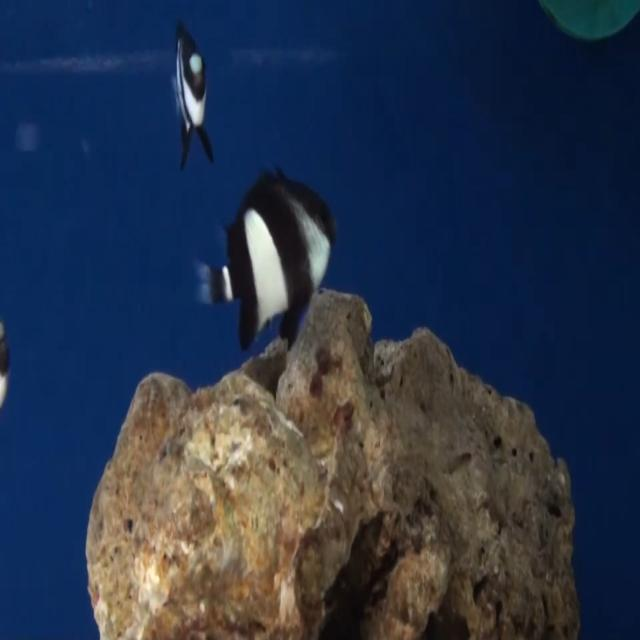ThreeStripedDamselfish: (196, 171, 336, 368), (175, 20, 215, 172)
